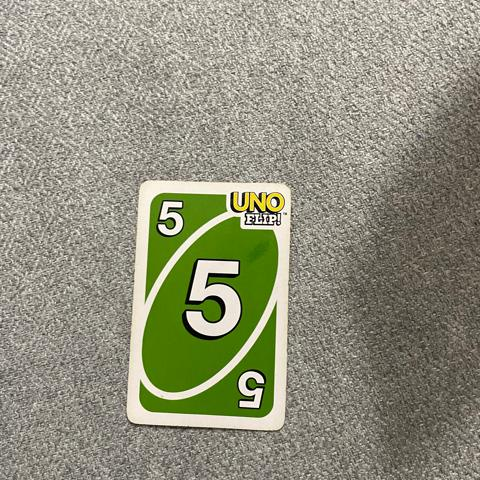8_green: (171, 250, 262, 344), (229, 363, 276, 411), (151, 199, 196, 243)
